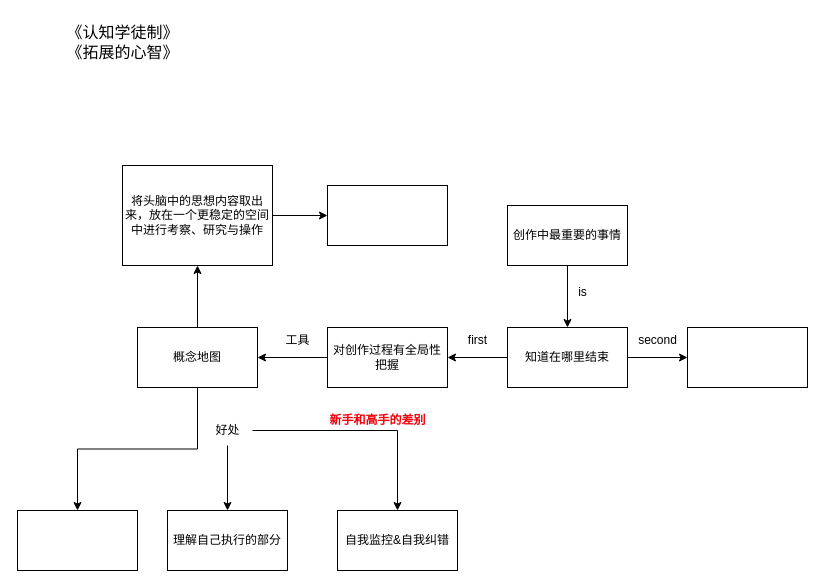
Some shapes in this 825 by 588 pixel diagram are drawn without their labels. Each missing label, with the box of its shape:
创造一个所有前提都在场的推论环境: (326, 184, 448, 246)
对整体有概念: (16, 510, 138, 570)
对质量好坏有自己的判断能力: (686, 326, 808, 388)
